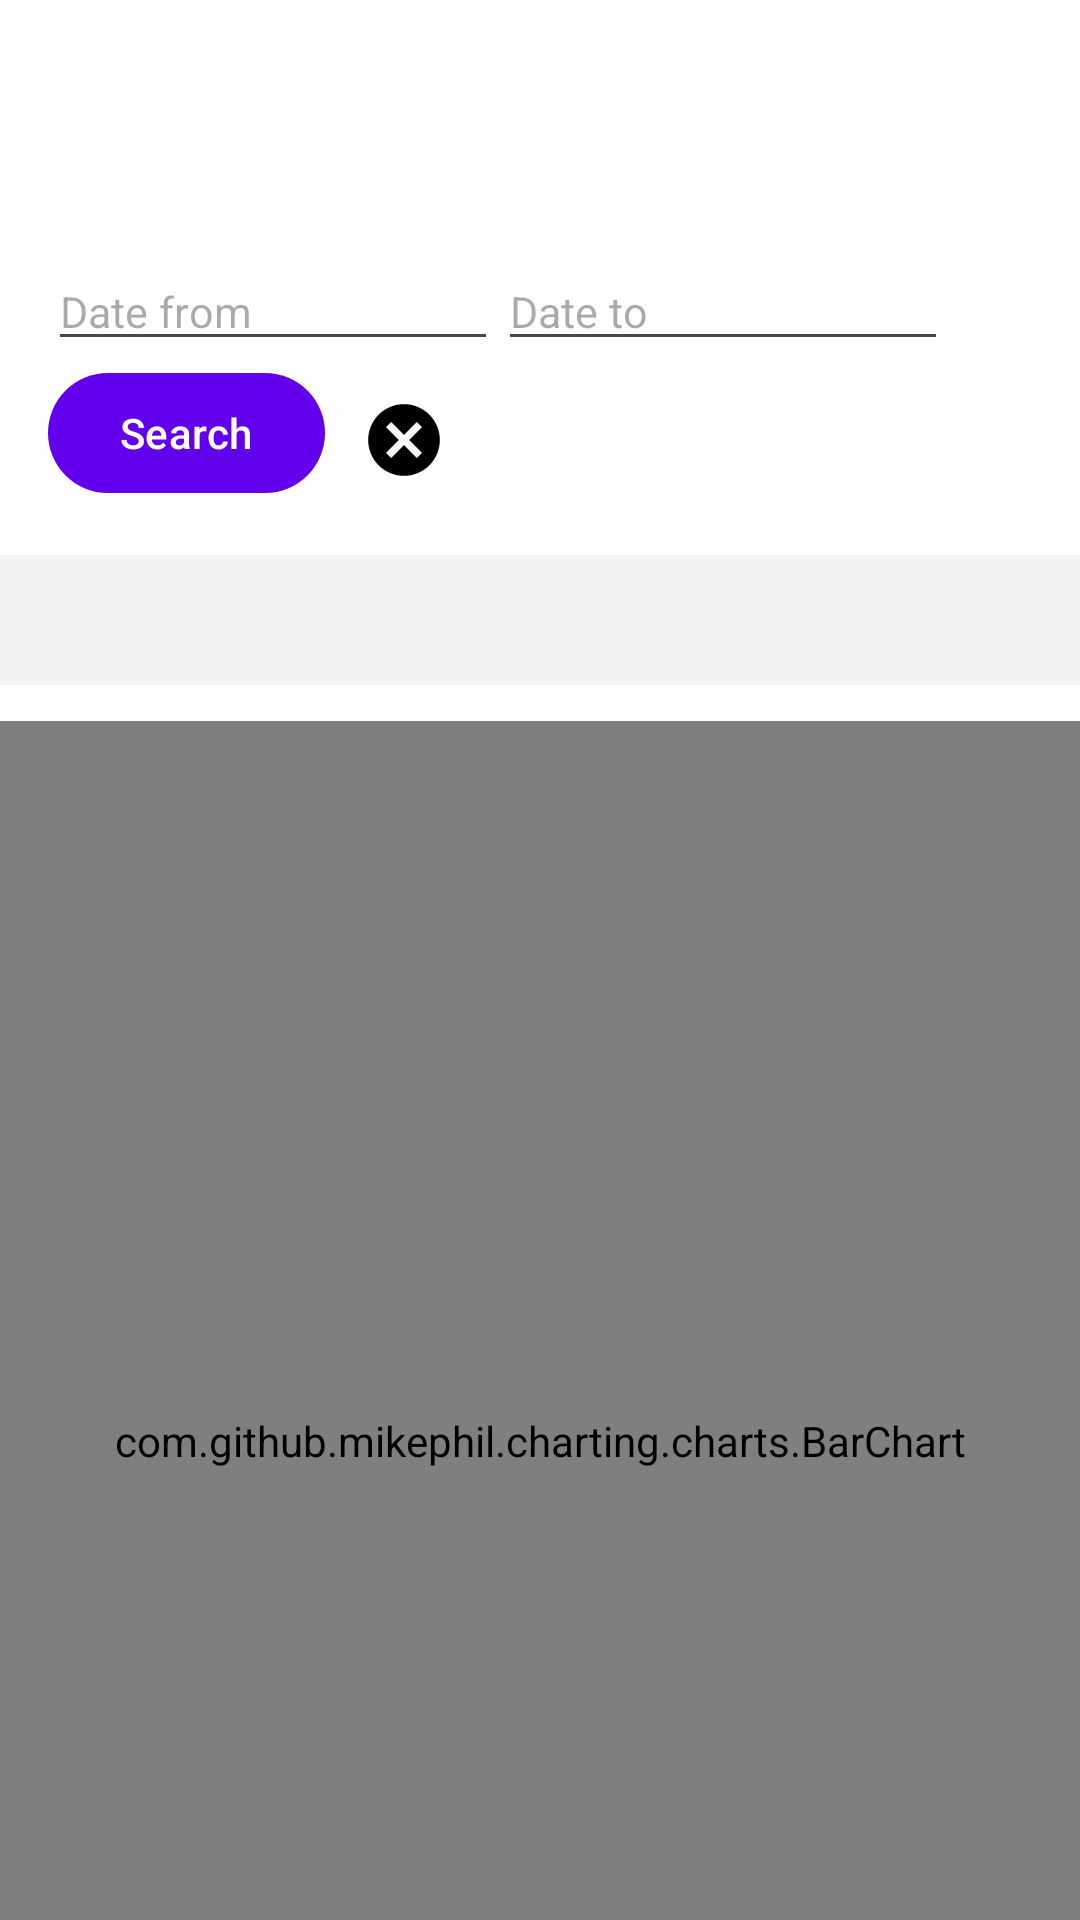

Where icons sit on this 1080 × 1920 app screen, as (left=x1, top=y1, right=x2, bottom=y2):
cancel circle: (left=368, top=404, right=440, bottom=476)
